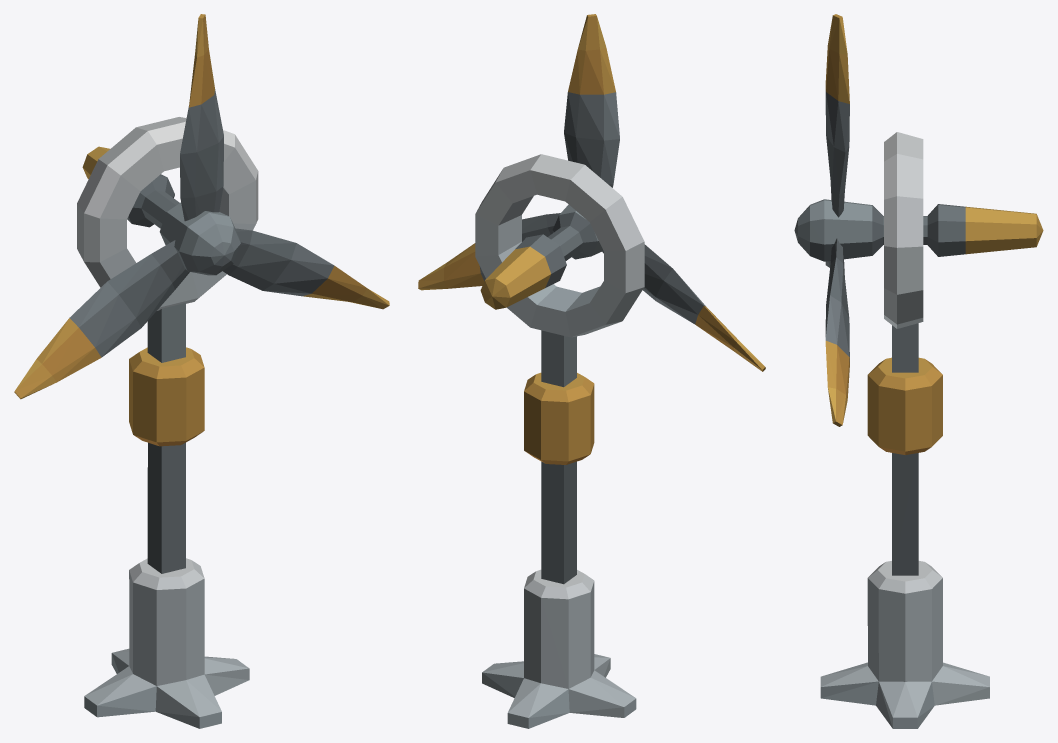
The model's file is kk_windturbine.obj.
The picture shows the model from 3 angles, left to right: view 1: azimuth 30°, elevation 25°; view 2: azimuth 150°, elevation 25°; view 3: azimuth 270°, elevation 25°; orthographic projection. The views are drawn at different scales.
Visible parts, largest first — view 1: fan, object 2; view 2: fan, object 2; view 3: object 2, fan.
Boxes of the visible parts, x1,y1,x2,y2 form: fan: [14, 14, 389, 399]; object 2: [84, 303, 249, 728]; fan: [418, 14, 765, 371]; object 2: [482, 330, 636, 728]; object 2: [820, 323, 989, 728]; fan: [794, 14, 1043, 426].
Size of the model in its own units: 8.88 by 16 by 5.33.
